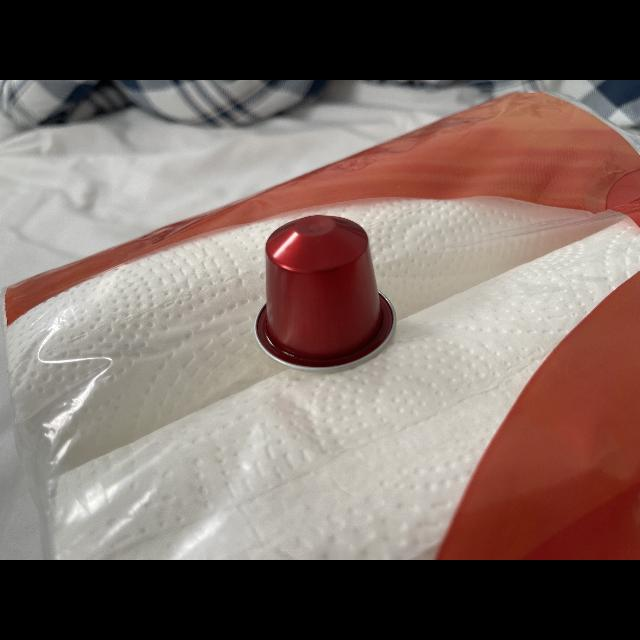intact_capsule: (232, 204, 416, 382)
